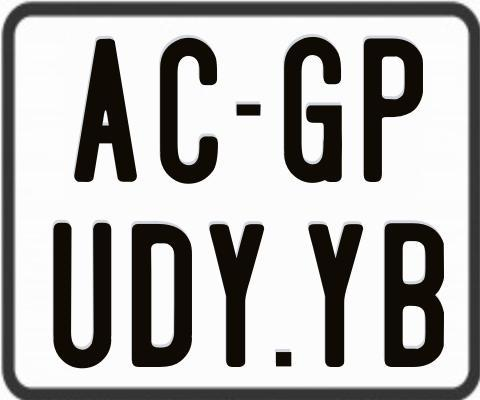A: (74, 38, 141, 181)
B: (383, 221, 446, 367)
C: (157, 35, 215, 183)
D: (131, 224, 193, 370)
G: (283, 35, 347, 184)
P: (362, 38, 424, 187)
U: (53, 220, 115, 370)
Y: (306, 223, 362, 370), (206, 224, 261, 371)
